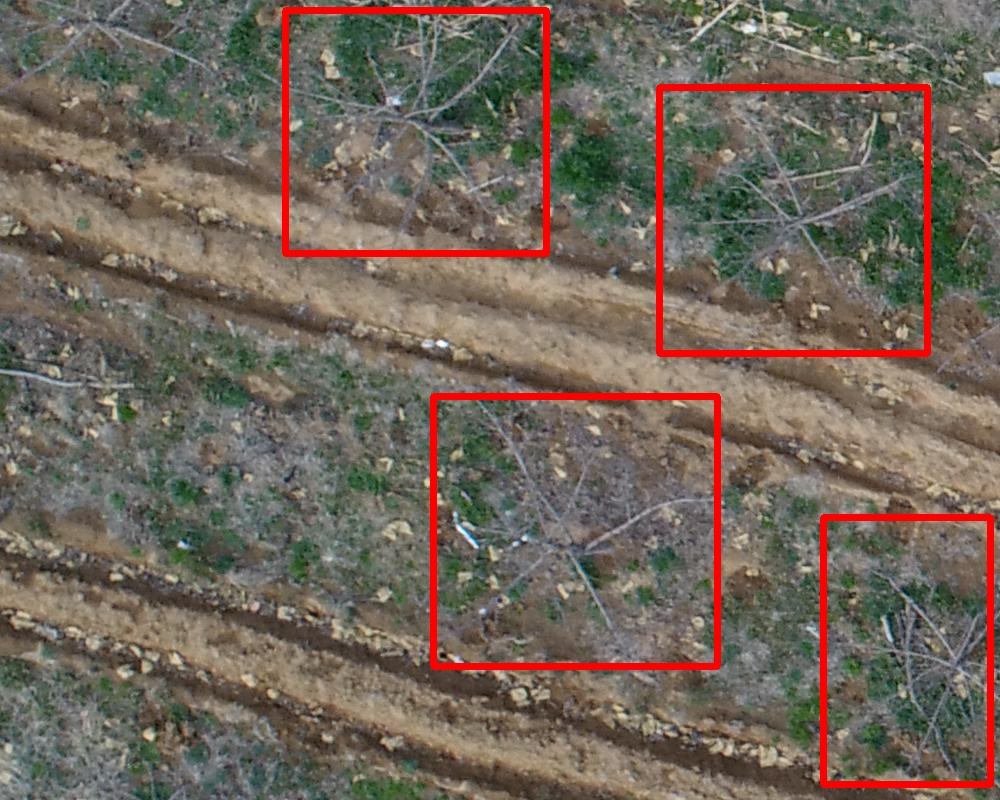apple: (433, 396, 717, 666), (659, 87, 927, 353), (285, 10, 546, 253), (823, 517, 990, 784)
